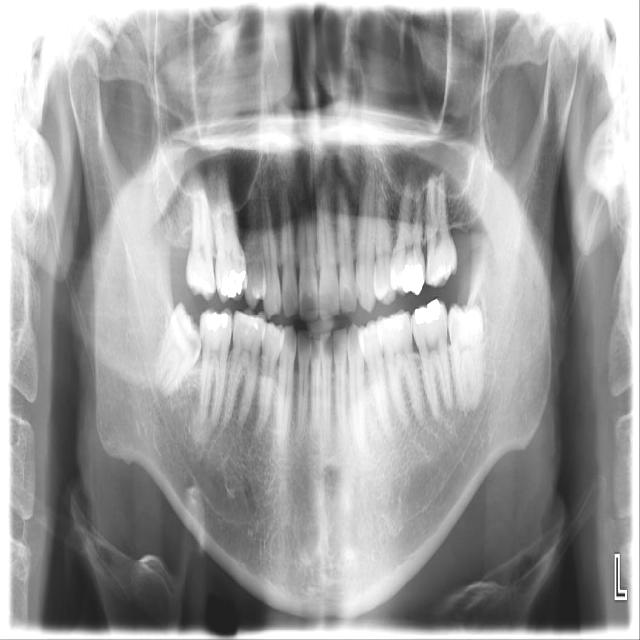Filling: (218, 267, 248, 300), (396, 259, 425, 292), (413, 298, 441, 325), (202, 309, 230, 334), (238, 313, 261, 338)
impacted tooth: (447, 302, 489, 415), (156, 300, 203, 396)
